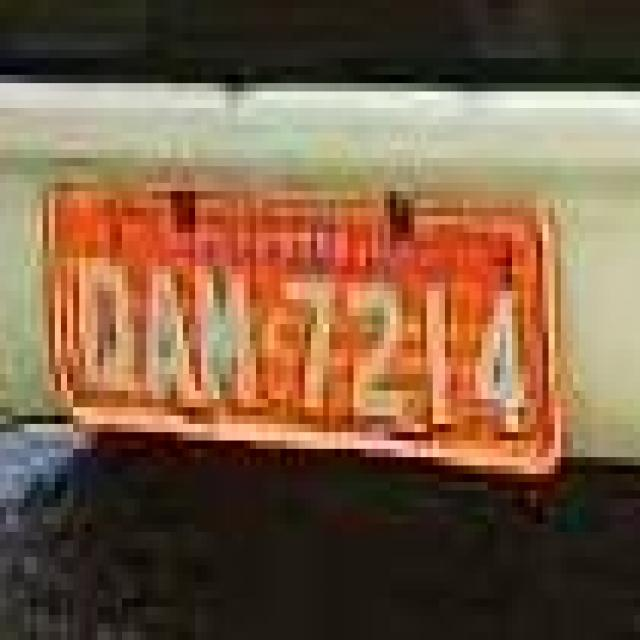1: (418, 260, 469, 444)
4: (471, 275, 533, 455)
7: (285, 261, 335, 432)
A: (139, 264, 203, 422)
M: (194, 241, 270, 411)
Q: (72, 251, 140, 395)
